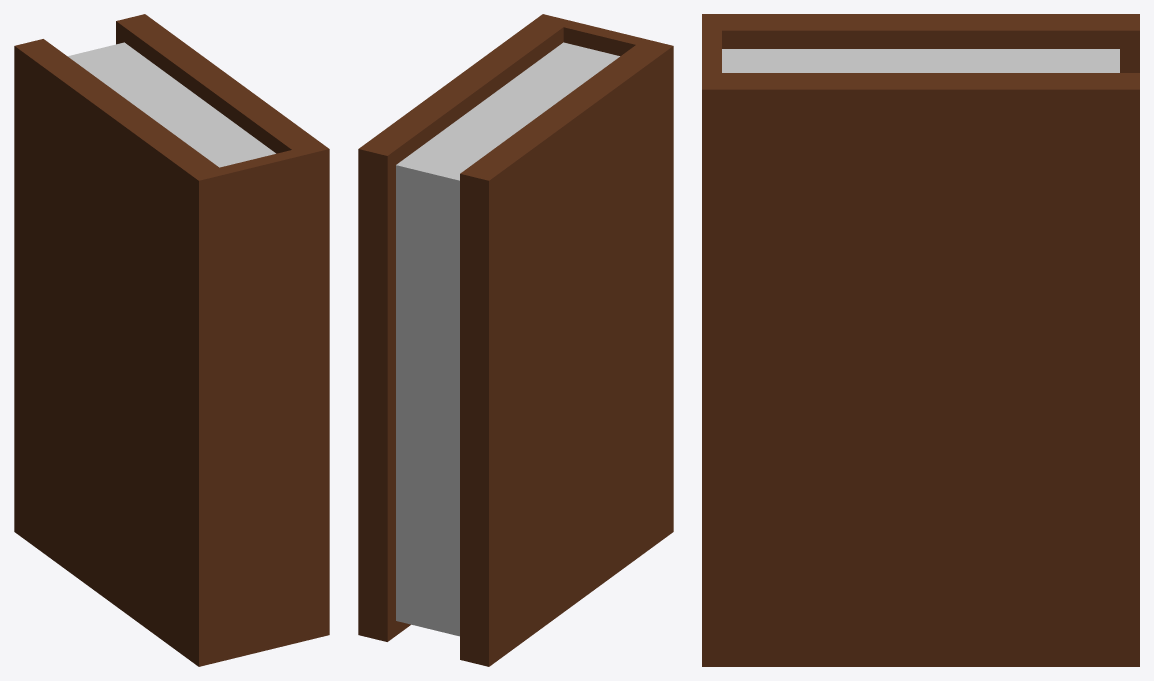
Rendered from BrownBook.fbx.
The picture shows the model from 3 angles, left to right: view 1: azimuth 30°, elevation 25°; view 2: azimuth 150°, elevation 25°; view 3: azimuth 270°, elevation 25°; orthographic projection. The views are drawn at different scales.
Parts seen in each view (by area): view 1: BrownBook; view 2: BrownBook; view 3: BrownBook.
Boxes of the visible parts, box(x1,y1,x2,y2) form: BrownBook: box(14, 14, 329, 666); BrownBook: box(358, 14, 673, 666); BrownBook: box(702, 14, 1139, 666).
Bounding box in the file's own units: 9 × 32 × 22.
1 material, 1 textured.
